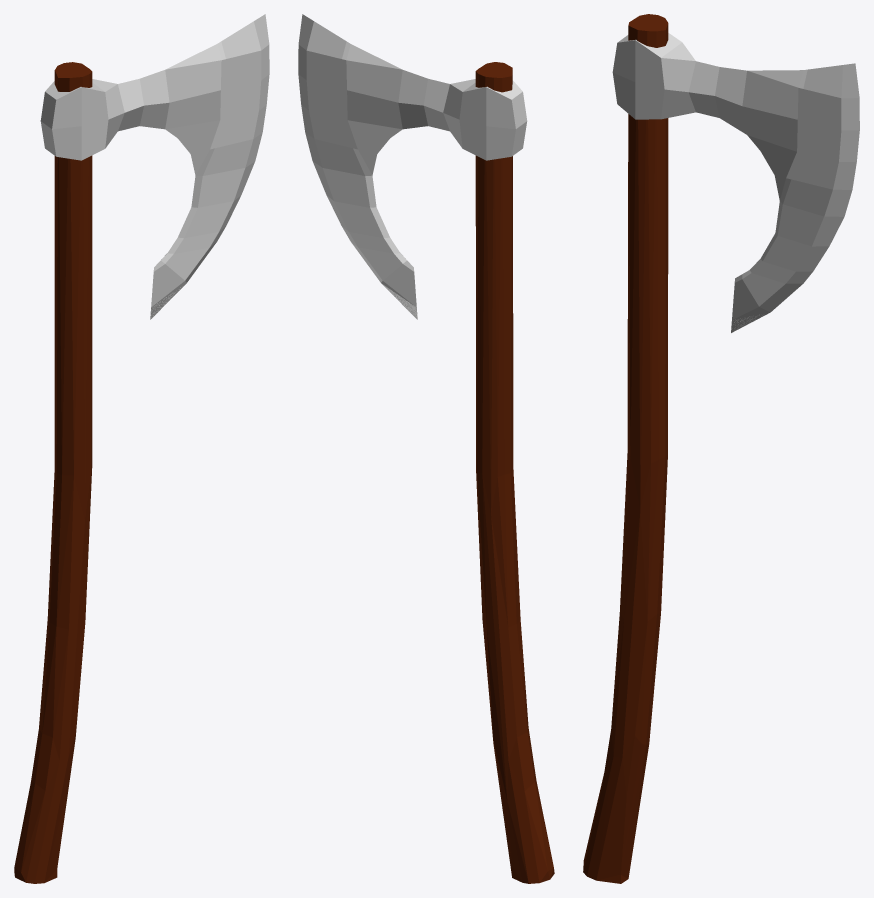
File: axe2ta.fbx
3 views of the same model, side by side, from view 1: azimuth 30°, elevation 25°; view 2: azimuth 150°, elevation 25°; view 3: azimuth 330°, elevation 25° (orthographic). The views are drawn at different scales.
Parts seen in each view (by area): view 1: Plane; view 2: Plane; view 3: Plane.
Boxes of the visible parts, x1,y1,x2,y2 form: Plane: (14,14,269,883); Plane: (298,14,554,883); Plane: (583,14,859,883).
Bounding box in the file's own units: 26.65 × 602 × 197.
